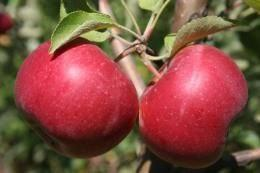Apple: (15, 39, 138, 160), (138, 43, 248, 170)
